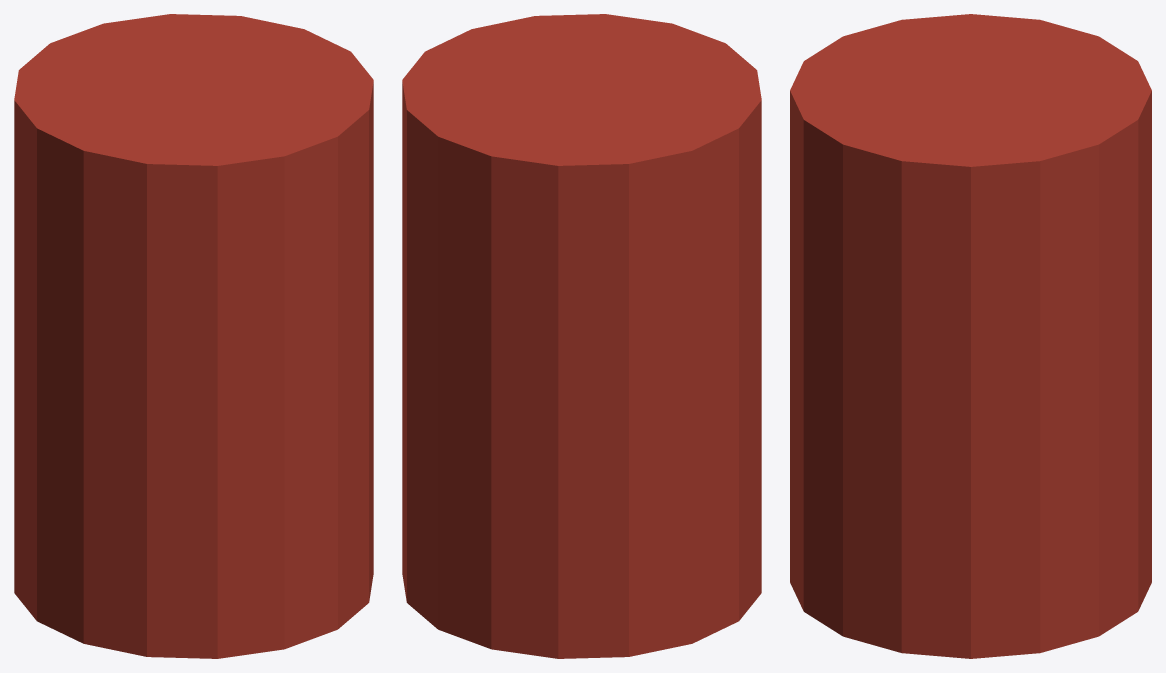
Rendered from prop_barrel.glb.
3 renders of one model, left to right at view 1: azimuth 30°, elevation 25°; view 2: azimuth 150°, elevation 25°; view 3: azimuth 270°, elevation 25°, orthographic.
Parts seen in each view (by area): view 1: Prop_Barrel; view 2: Prop_Barrel; view 3: Prop_Barrel.
Part boxes in pixels (box(x1,y1,x2,y2)): Prop_Barrel: box(14, 14, 373, 658); Prop_Barrel: box(402, 14, 761, 658); Prop_Barrel: box(790, 14, 1151, 658).
Bounding box in the file's own units: 0.8 × 1.2 × 0.8.
